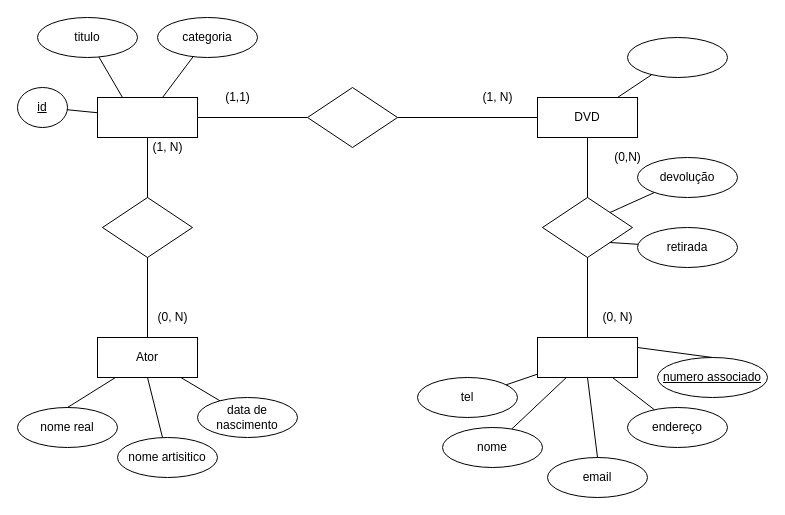
This 785x515 diagram has some shape labels left out. The shapes that lost their labels are listed below. From the top down, each one's box as (x1, y1, x2, y2) in pixels, then its label:
(626, 36, 728, 78): codigo
(96, 96, 198, 138): Filme
(306, 86, 398, 148): possui
(102, 196, 192, 258): atua
(542, 196, 632, 258): aluga
(536, 336, 638, 378): Cliente
